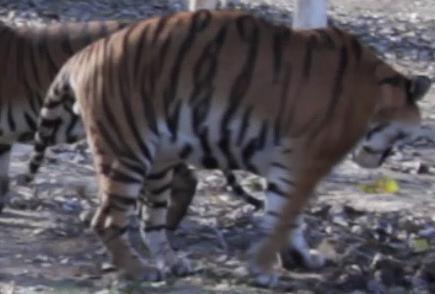tiger: (0, 10, 430, 282)
